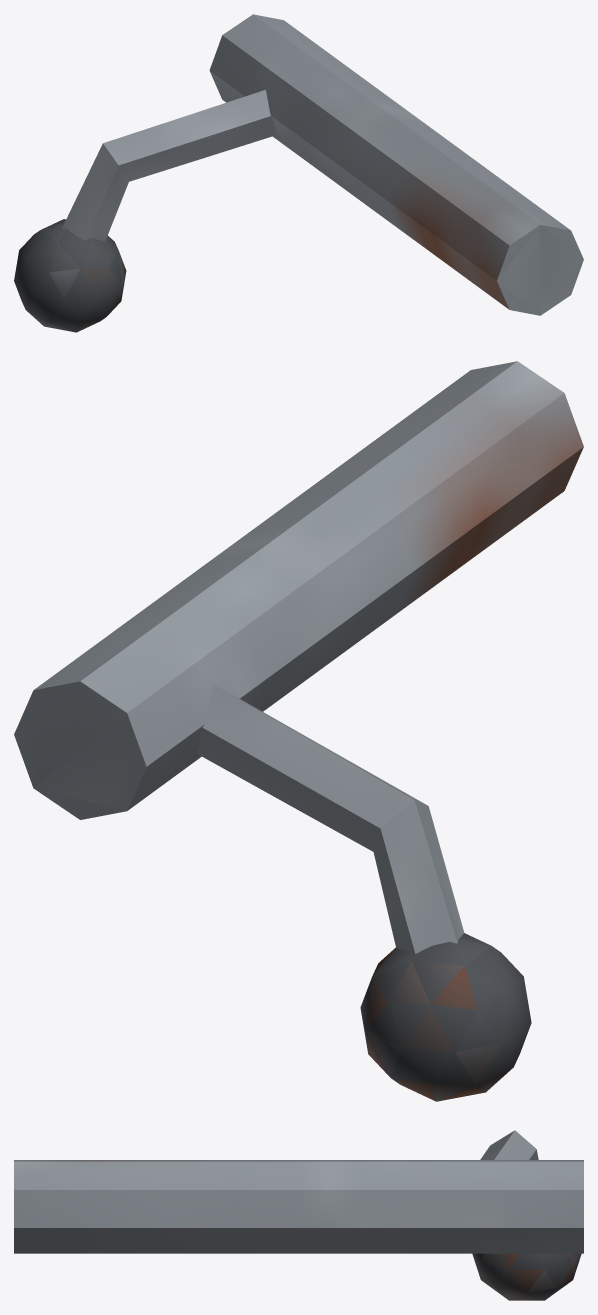
File: SM_Rifle_Bolt.fbx
3 views of the same model, one above another, from view 1: azimuth 30°, elevation 25°; view 2: azimuth 150°, elevation 25°; view 3: azimuth 270°, elevation 25° (orthographic). The views are drawn at different scales.
Parts seen in each view (by area): view 1: SM_Rifle_Bolt; view 2: SM_Rifle_Bolt; view 3: SM_Rifle_Bolt.
Part boxes in pixels (x1,y1,x2,y2): SM_Rifle_Bolt: [14, 14, 583, 332]; SM_Rifle_Bolt: [14, 361, 583, 1101]; SM_Rifle_Bolt: [14, 1130, 583, 1300].
Size of the model in its own units: 0.4861 by 0.37 by 0.8.
1 material, 1 textured.
